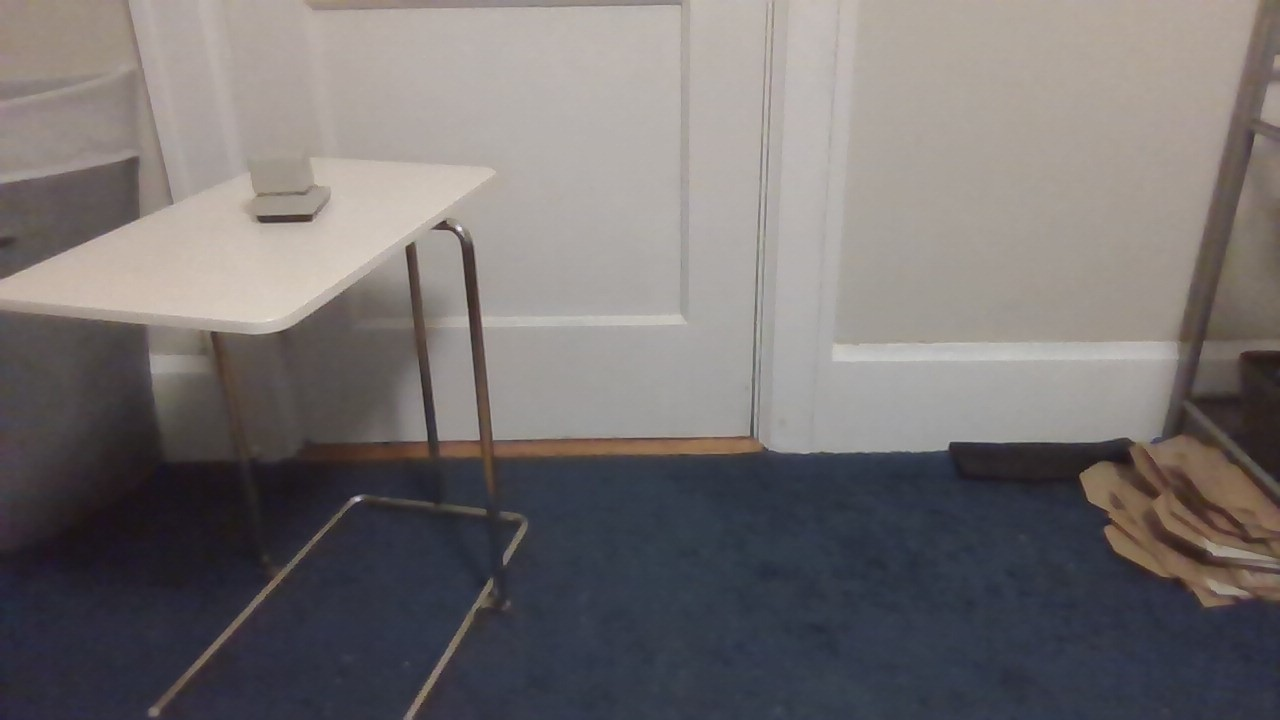Toy: (233, 137, 336, 229)
